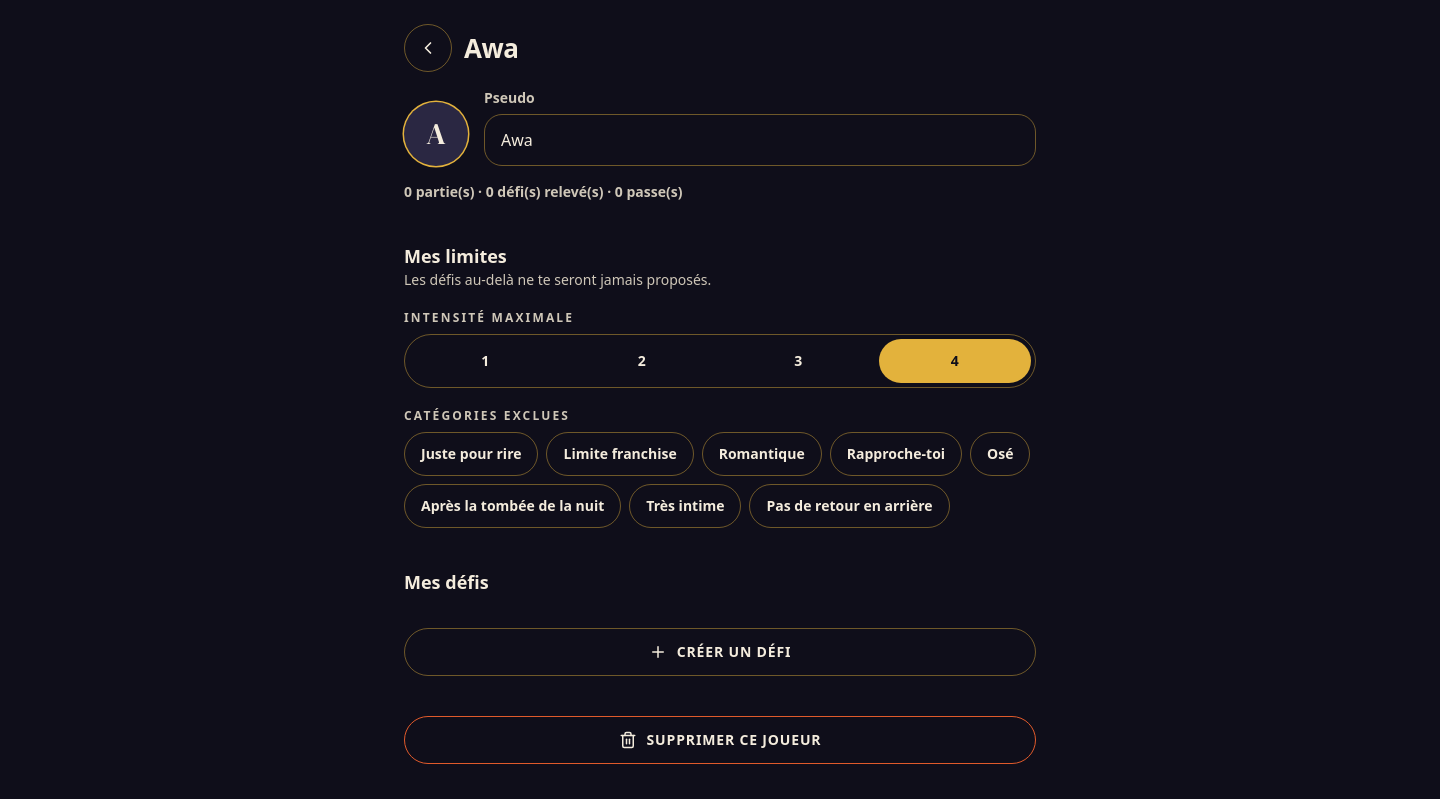
Test: a player page edits limits and creates a custom dare
Step 1. Click the radio button labelled "2" → (642, 360), box [638,351,646,370]
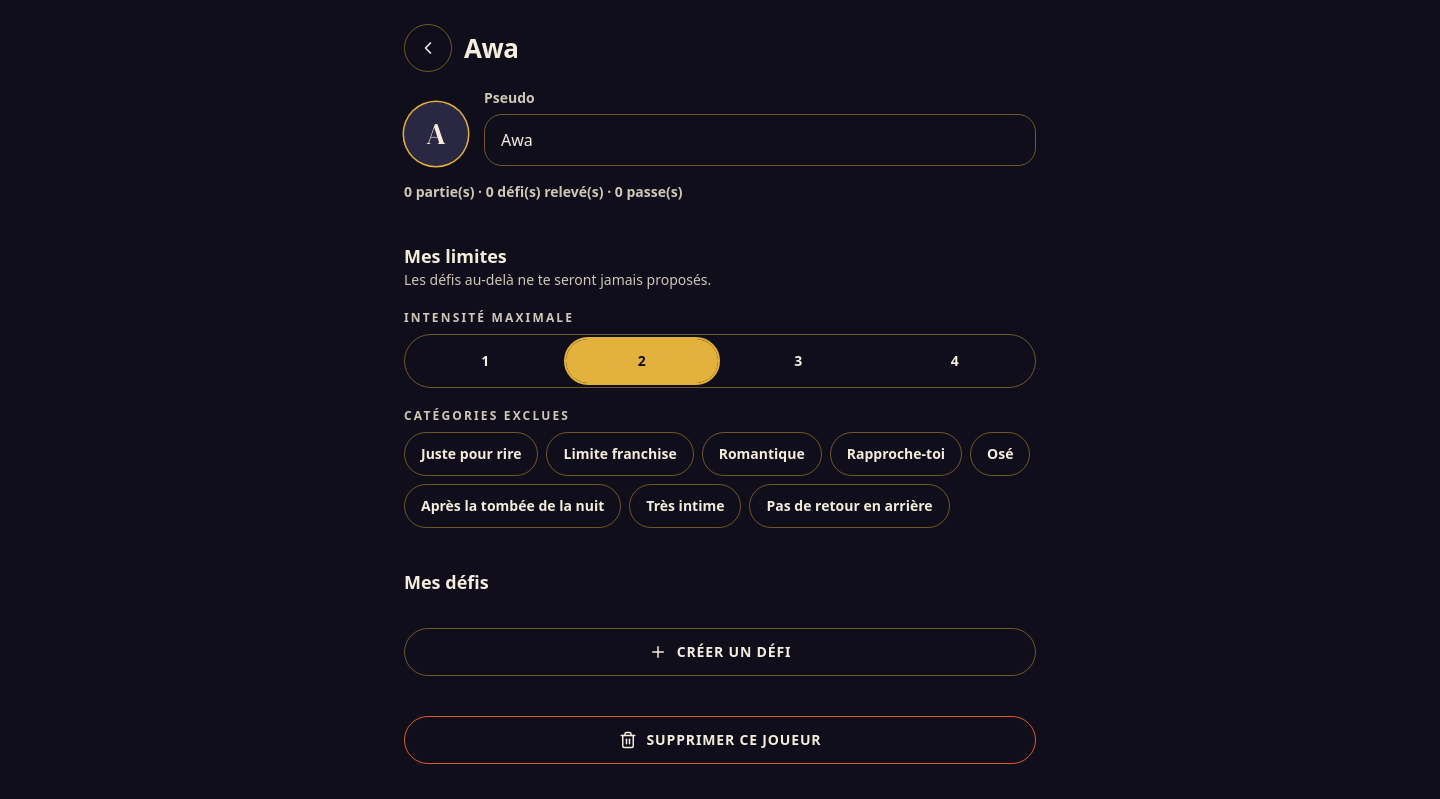
Step 2. Click the button "Créer un défi" → (720, 652), box [404,628,1036,676]
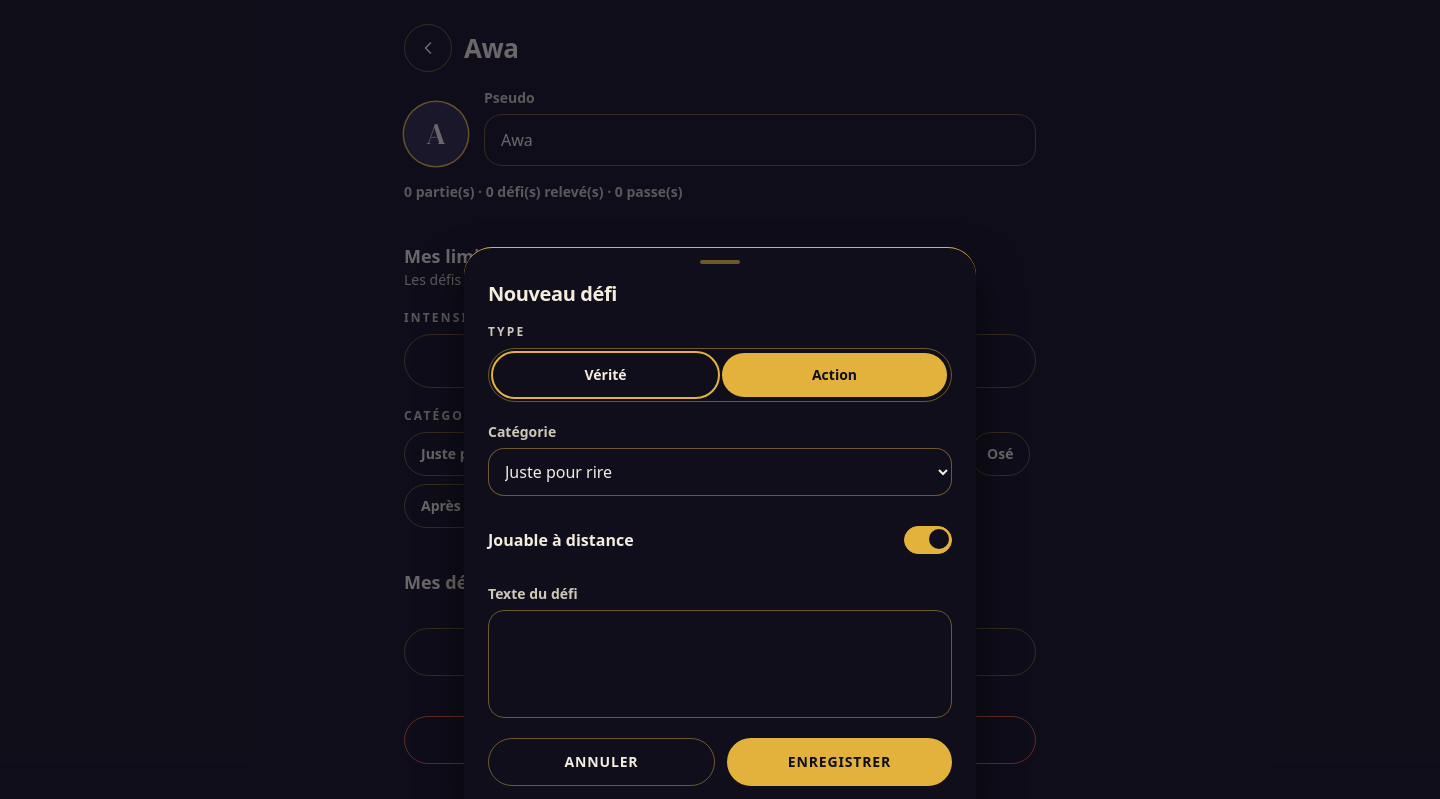
Step 3. Type "Danse la salsa" into the text box labelled "Texte du défi" → (720, 664), box [488,610,952,718]
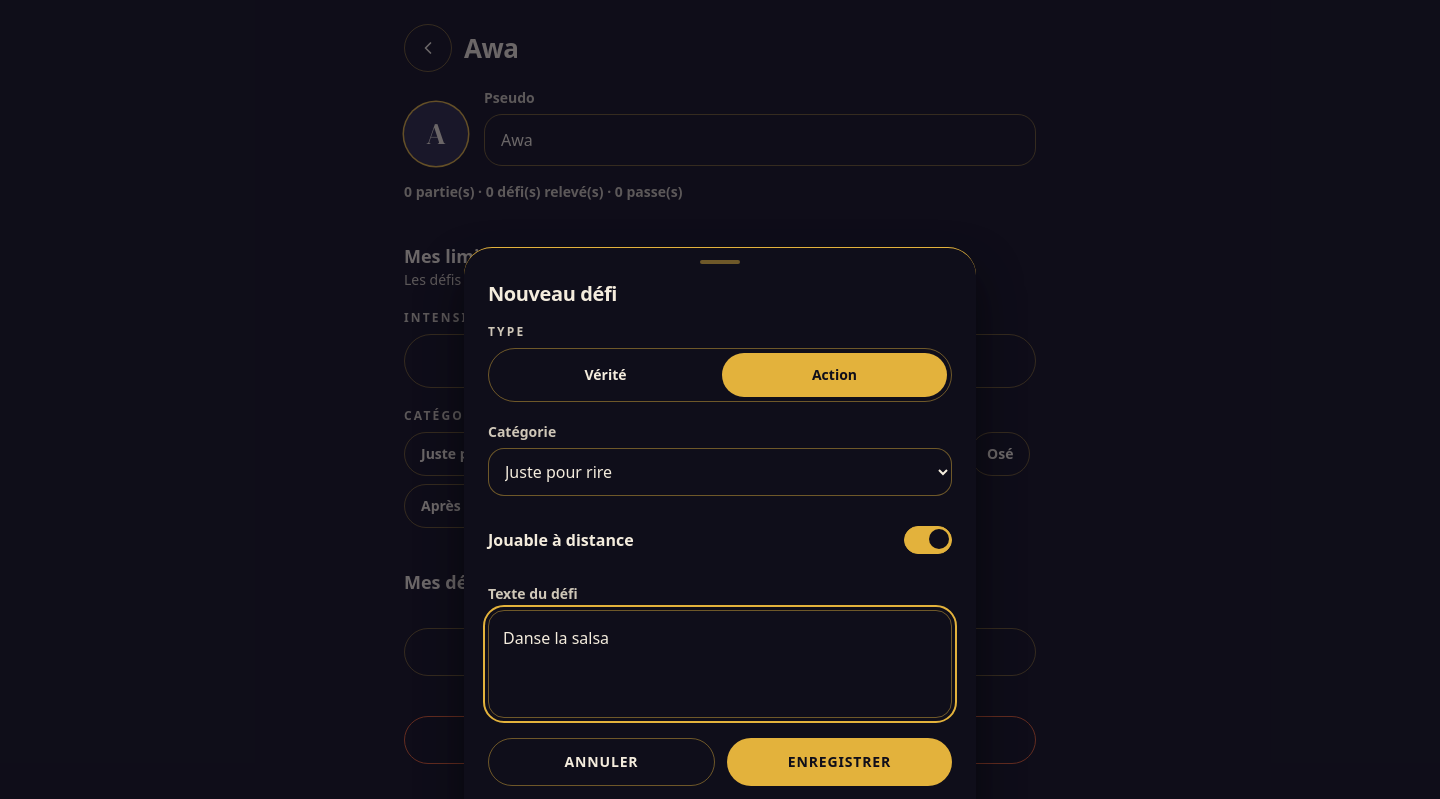
Step 4. Click the button "Enregistrer" → (840, 762), box [727,738,952,786]
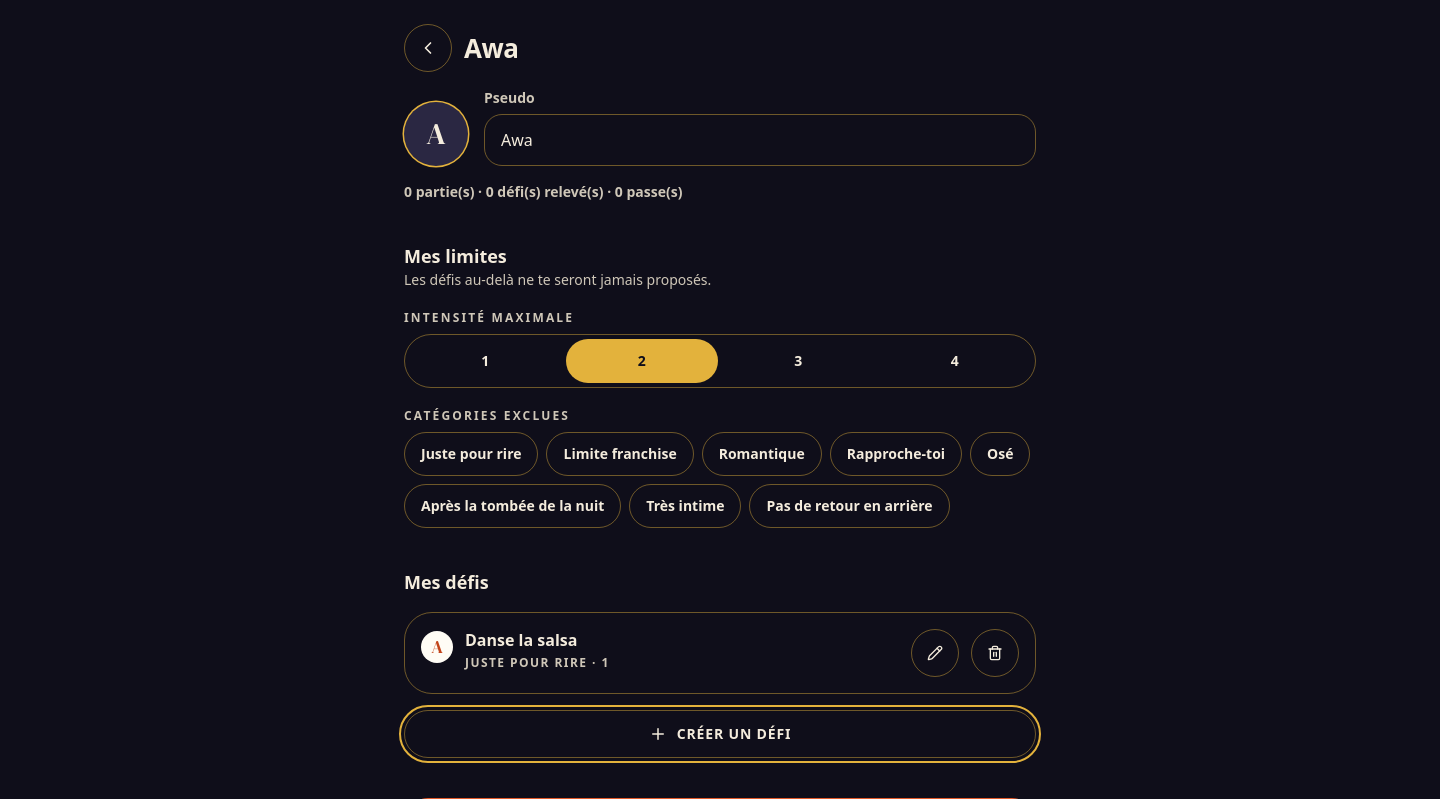
expect the text "Danse la salsa" is shown: met, box [465,629,577,651]
